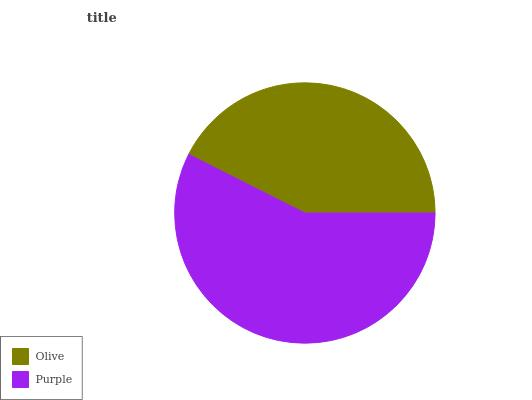legend: (0, 331, 84, 399)
sector: (173, 153, 436, 343), (189, 81, 435, 212)
